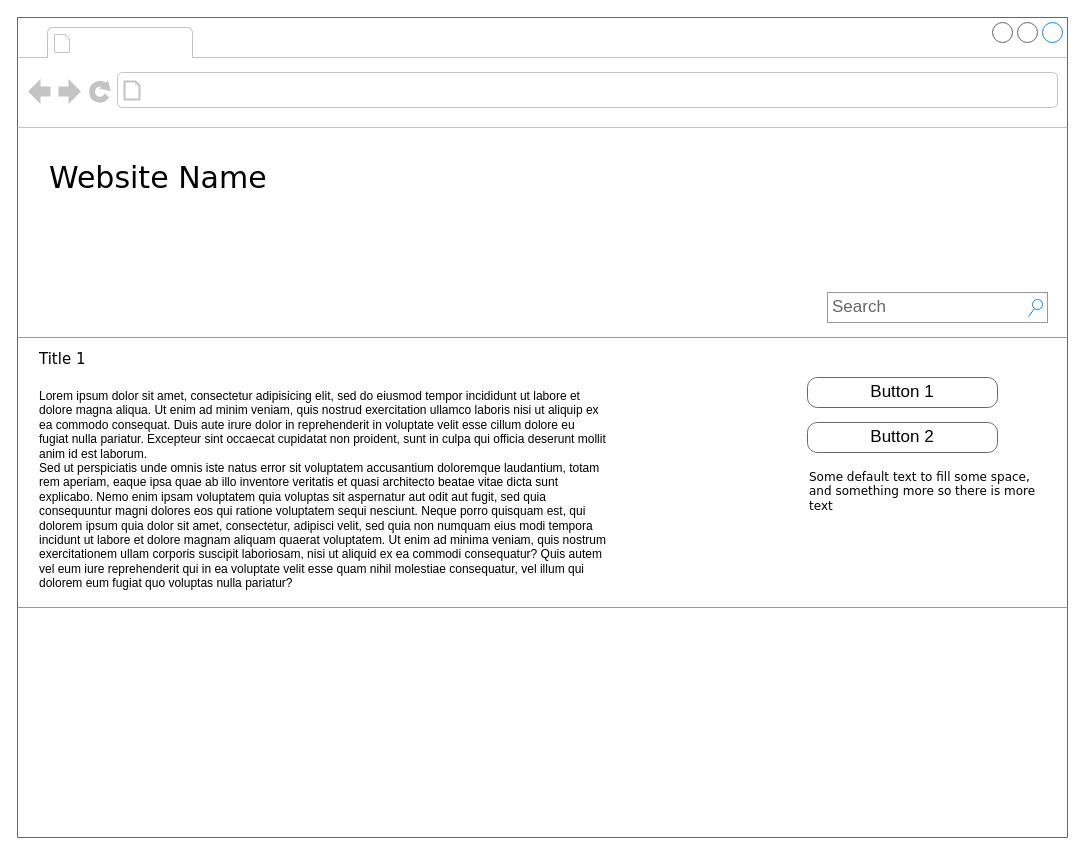
Some shapes in this 1085 by 855 pixel diagram are drawn without their labels. The shapes that lost their labels are listed below. From the top down, each one's centre as x and y in pixels, then its label:
At pixel 132 42: "Page 1".
At pixel 272 90: "https://www.default.com".
